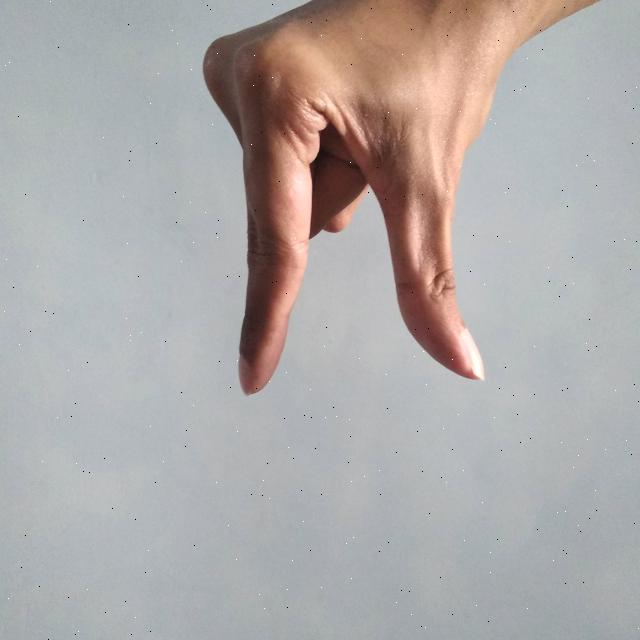Q: (193, 0, 609, 405)
